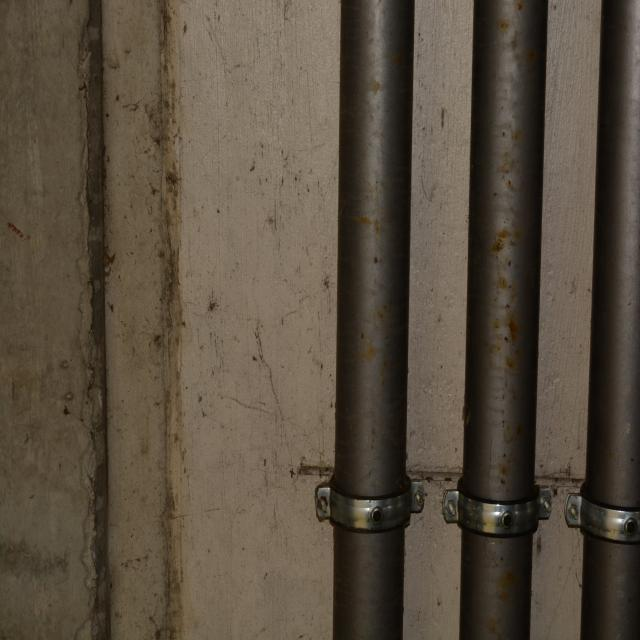corrosion: (461, 0, 556, 640), (330, 0, 418, 640), (583, 0, 640, 640)
